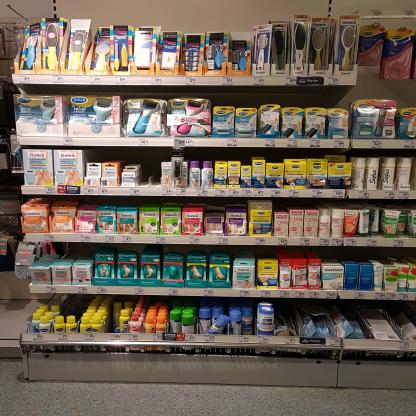Void: (218, 87, 341, 105), (107, 245, 274, 255), (288, 248, 412, 257), (357, 80, 411, 97), (45, 244, 94, 259), (139, 150, 158, 184), (87, 148, 130, 162), (279, 200, 316, 210)
